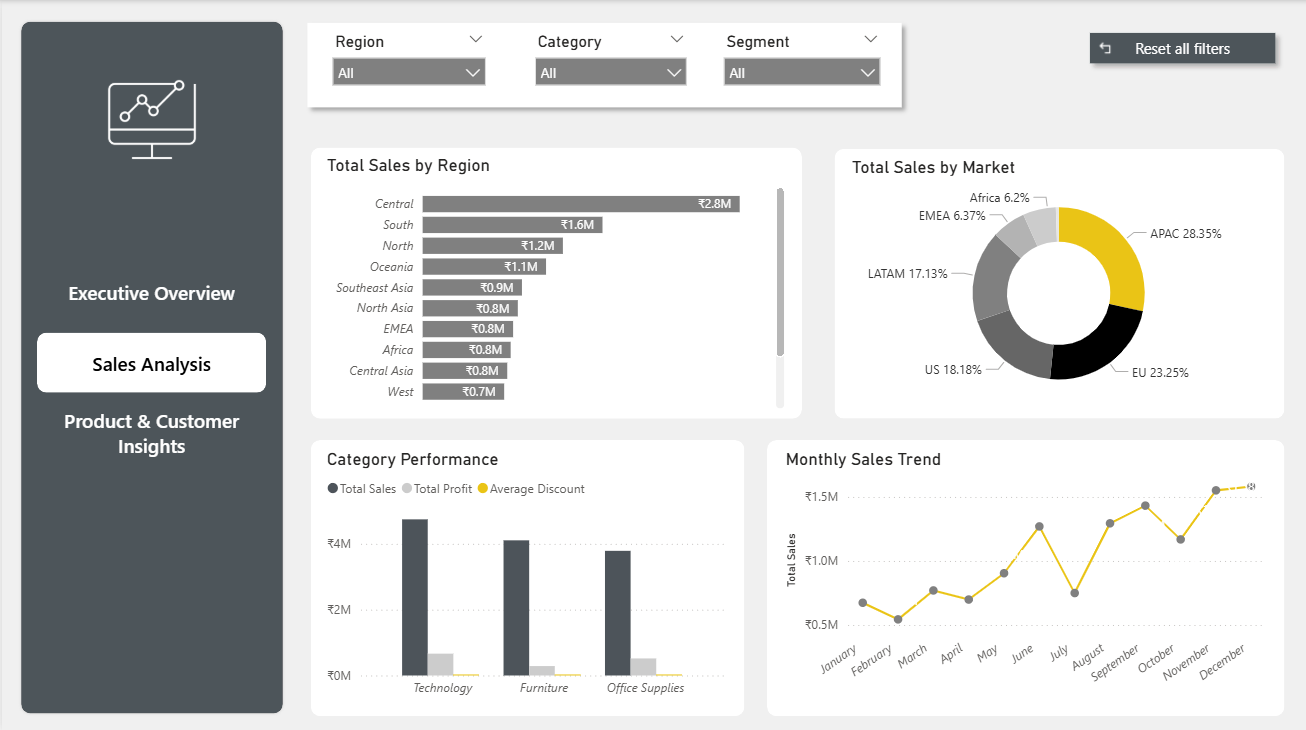

What the dashboard file says about the page in this screenshot:
{"tool":"powerbi","page":{"name":"Sales Analysis","canvas":[1280,720],"ordinal":1},"visuals":[{"type":"shape","box":[16,18.4,262.6,684.7],"z":0},{"type":"shape","box":[750.9,431.9,508,271.2],"z":1000},{"type":"pageNavigator","box":[34.4,257.7,225.8,198.8],"z":2000},{"type":"image","box":[57.7,71.2,179.1,89.6],"z":3000},{"type":"shape","box":[303.1,144.8,482.2,266.3],"z":4000},{"type":"shape","box":[290.8,13.8,601.2,100.6],"z":5000},{"type":"slicer","fields":{"Values":["cleaned_dataset.region"]},"box":[314.1,27.3,170.6,72.4],"z":6000},{"type":"slicer","fields":{"Values":["cleaned_dataset.category"]},"box":[512.9,27.3,169.3,72.4],"z":7000},{"type":"slicer","fields":{"Values":["cleaned_dataset.segment"]},"box":[698.2,27.3,174.2,72.4],"z":8000},{"type":"actionButton","box":[1058.9,23.3,200,47.9],"z":9000},{"type":"clusteredBarChart","title":"Total Sales by Region","fields":{"Y":["Sum(cleaned_dataset.sales)"],"Category":["cleaned_dataset.region"]},"box":[314.1,152.1,458.9,254],"z":10000},{"type":"shape","box":[303.1,431.9,425.8,271.2],"z":11000},{"type":"lineChart","title":"Monthly Sales Trend","fields":{"Category":["cleaned_dataset.order_date.Variation.Date Hierarchy.Year","cleaned_dataset.order_date.Variation.Date Hierarchy.Month"],"Y":["Sum(cleaned_dataset.sales)"]},"box":[764.4,440.5,481,252.8],"z":12000},{"type":"shape","box":[817.2,146,441.7,265],"z":13000},{"type":"clusteredColumnChart","title":"Category Performance","fields":{"Category":["cleaned_dataset.category"],"Y":["Sum(cleaned_dataset.sales)","_Measures.Total Profit","_Measures.Average Discount"]},"box":[314.1,440.5,402.5,252.8],"z":14000},{"type":"donutChart","title":"Total Sales by Market","fields":{"Category":["cleaned_dataset.market"],"Y":["Sum(cleaned_dataset.sales)"]},"box":[829.5,153.4,416,250.3],"z":15000}]}

Visuals, with their boxes in screenshot pixels (x1, y1, x2, y2), scaled from the page's 1280x720 canvas onto the 1306x730 screenshot:
shape: 16:19:284:713
shape: 766:438:1284:713
pageNavigator: 35:261:265:463
image: 59:72:242:163
shape: 309:147:801:417
shape: 297:14:910:116
slicer - cleaned_dataset.region: 320:28:495:101
slicer - cleaned_dataset.category: 523:28:696:101
slicer - cleaned_dataset.segment: 712:28:890:101
actionButton: 1080:24:1284:72
"Total Sales by Region" clusteredBarChart: 320:154:789:412
shape: 309:438:744:713
"Monthly Sales Trend" lineChart: 780:447:1271:703
shape: 834:148:1284:417
"Category Performance" clusteredColumnChart: 320:447:731:703
"Total Sales by Market" donutChart: 846:156:1271:409
